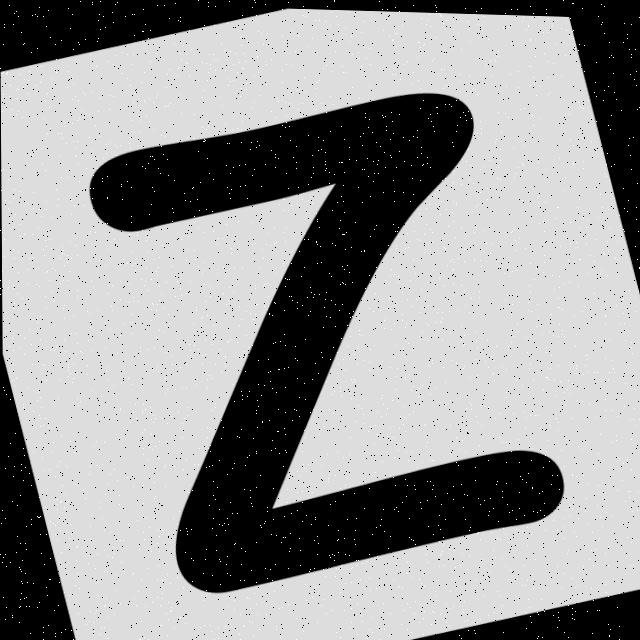Z: (89, 90, 562, 590)
